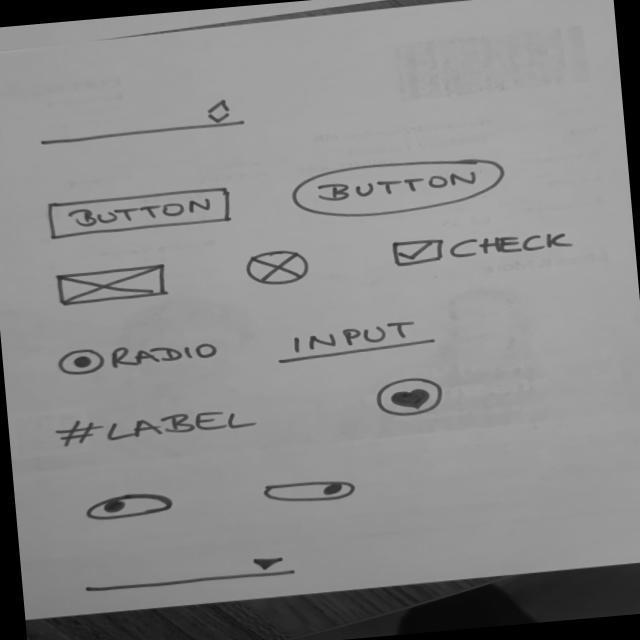button: (285, 152, 516, 227), (38, 184, 238, 243)
checkbox: (378, 225, 579, 275)
icon-button: (372, 375, 450, 421)
image: (51, 262, 173, 308), (236, 245, 321, 292)
input: (272, 315, 445, 368)
label: (50, 401, 263, 453)
number-input: (32, 94, 250, 149)
radio: (56, 345, 108, 380)
select: (74, 551, 301, 599)
toggle: (260, 474, 362, 509), (83, 490, 181, 524)
